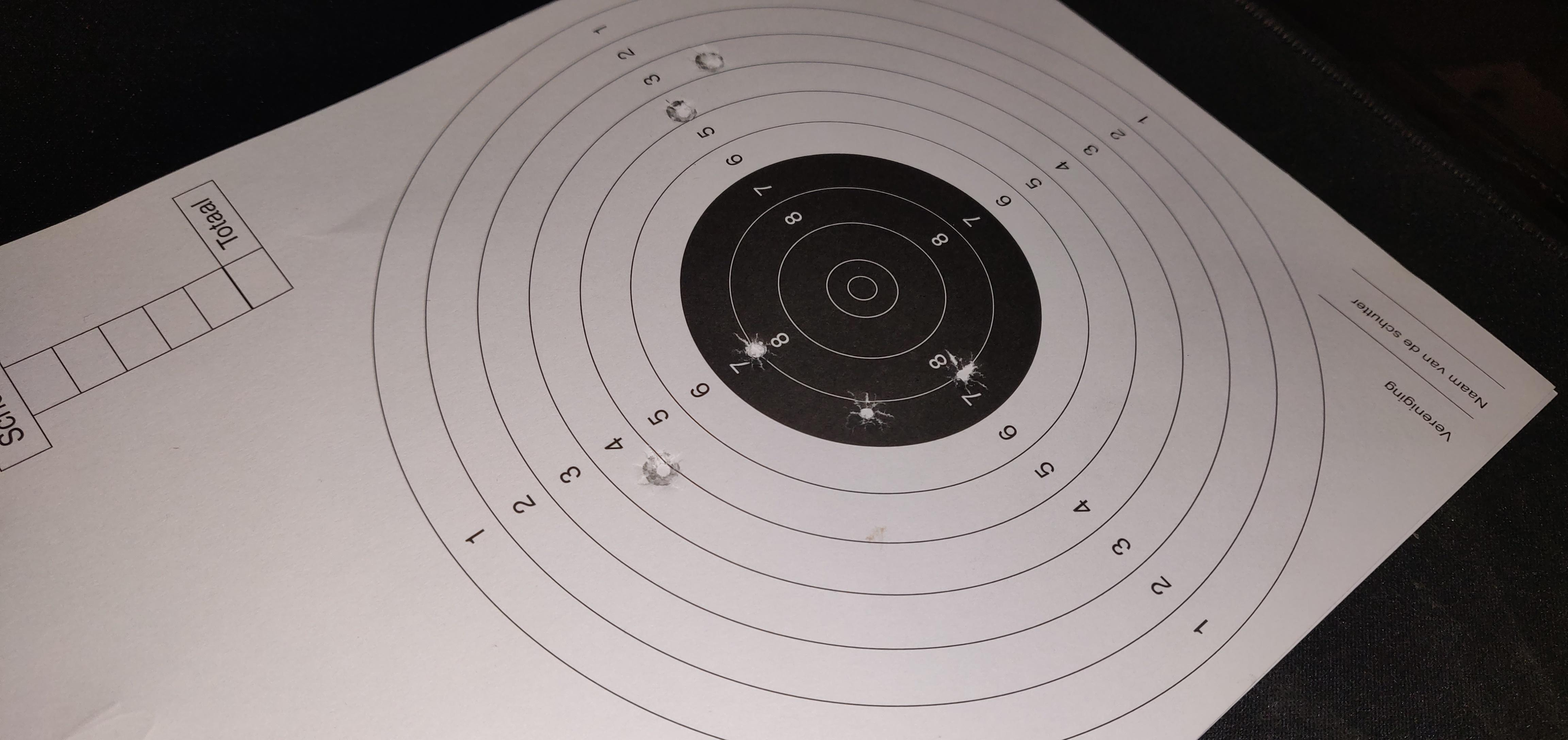hole: (841, 388, 897, 436), (939, 351, 990, 394), (636, 445, 682, 491), (734, 329, 780, 371), (662, 92, 699, 123), (692, 45, 727, 76)
